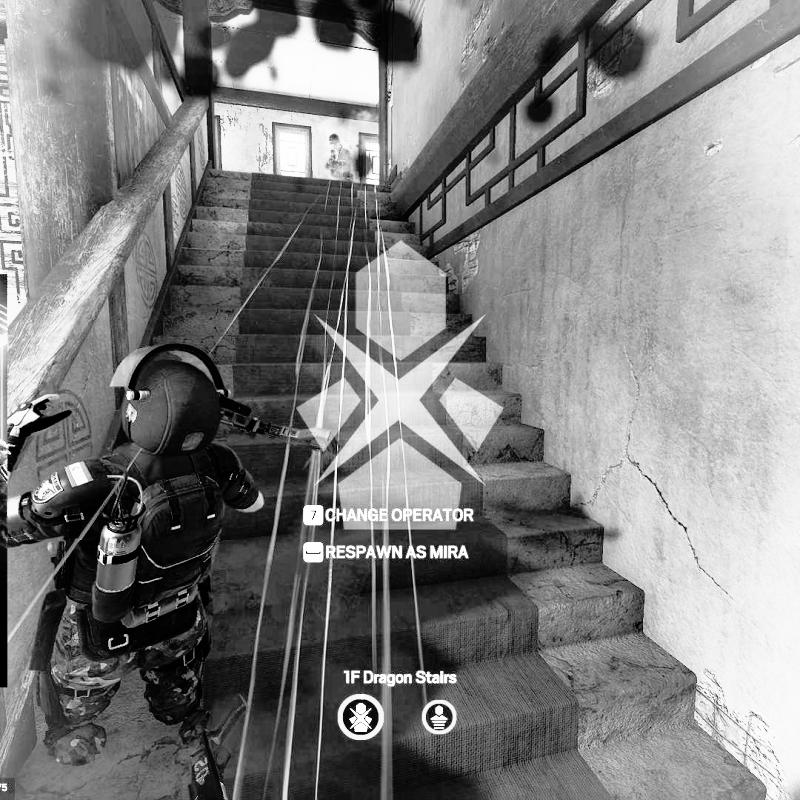Character: (0, 337, 269, 800), (323, 131, 355, 180)
Head: (110, 341, 226, 457), (328, 132, 344, 151)
